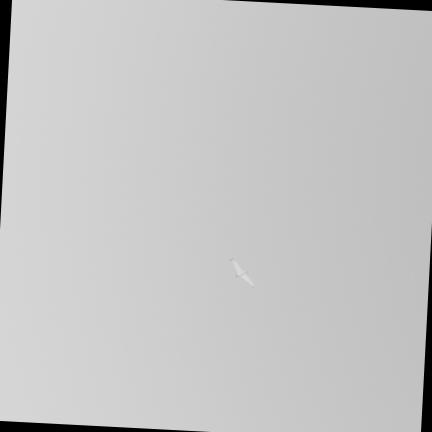Shahed: (229, 257, 254, 288)
